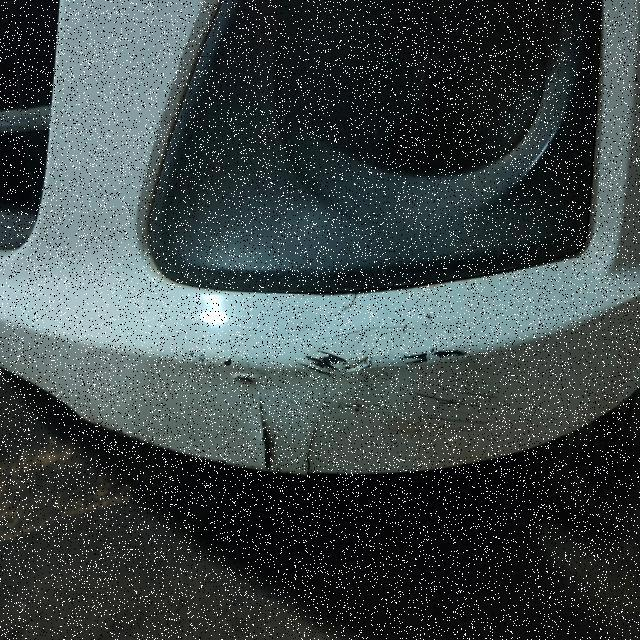front-bumper-dent: (116, 4, 618, 488)
